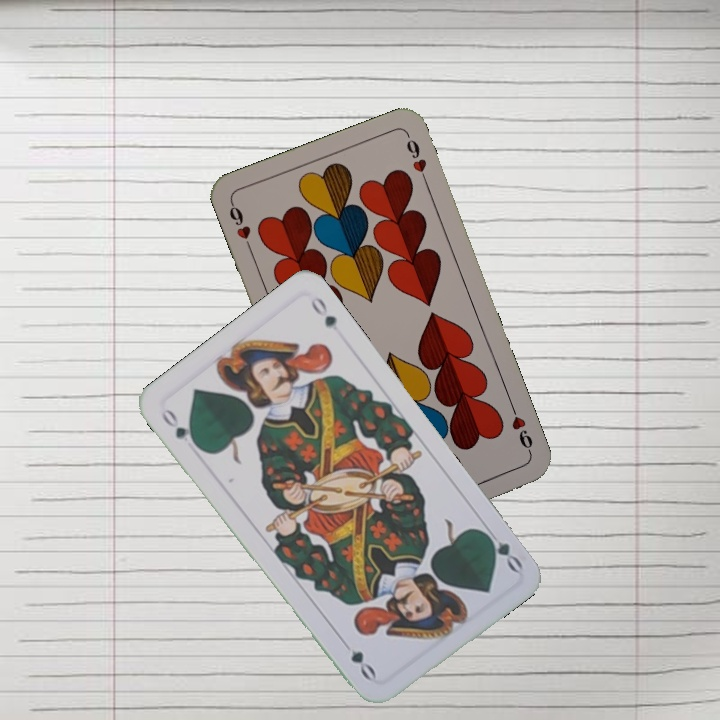GO: (478, 523, 525, 575), (157, 404, 202, 451)
H9: (225, 198, 255, 255), (507, 401, 536, 458)
